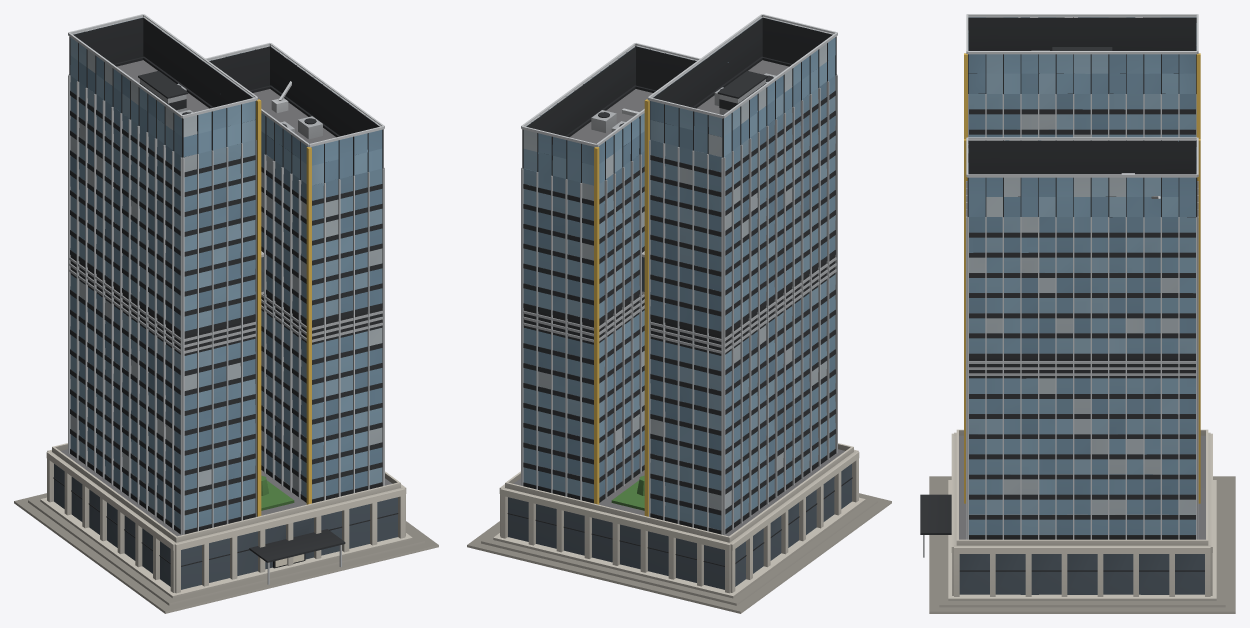
3 renders of one model, left to right at view 1: azimuth 30°, elevation 25°; view 2: azimuth 150°, elevation 25°; view 3: azimuth 270°, elevation 25°, orthographic.
Visible parts, largest first — view 1: t3; view 2: t3; view 3: t3.
Part boxes in pixels (<box>): t3: <box>14,14,438,613</box>; t3: <box>467,14,891,613</box>; t3: <box>920,14,1235,613</box>.
Bounding box in the file's own units: 56.12 × 93.25 × 55.24.
